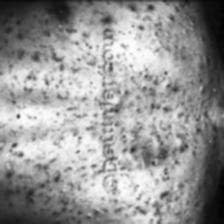Non-Cancerous Skin Condition: (0, 0, 91, 216), (131, 0, 206, 224)
